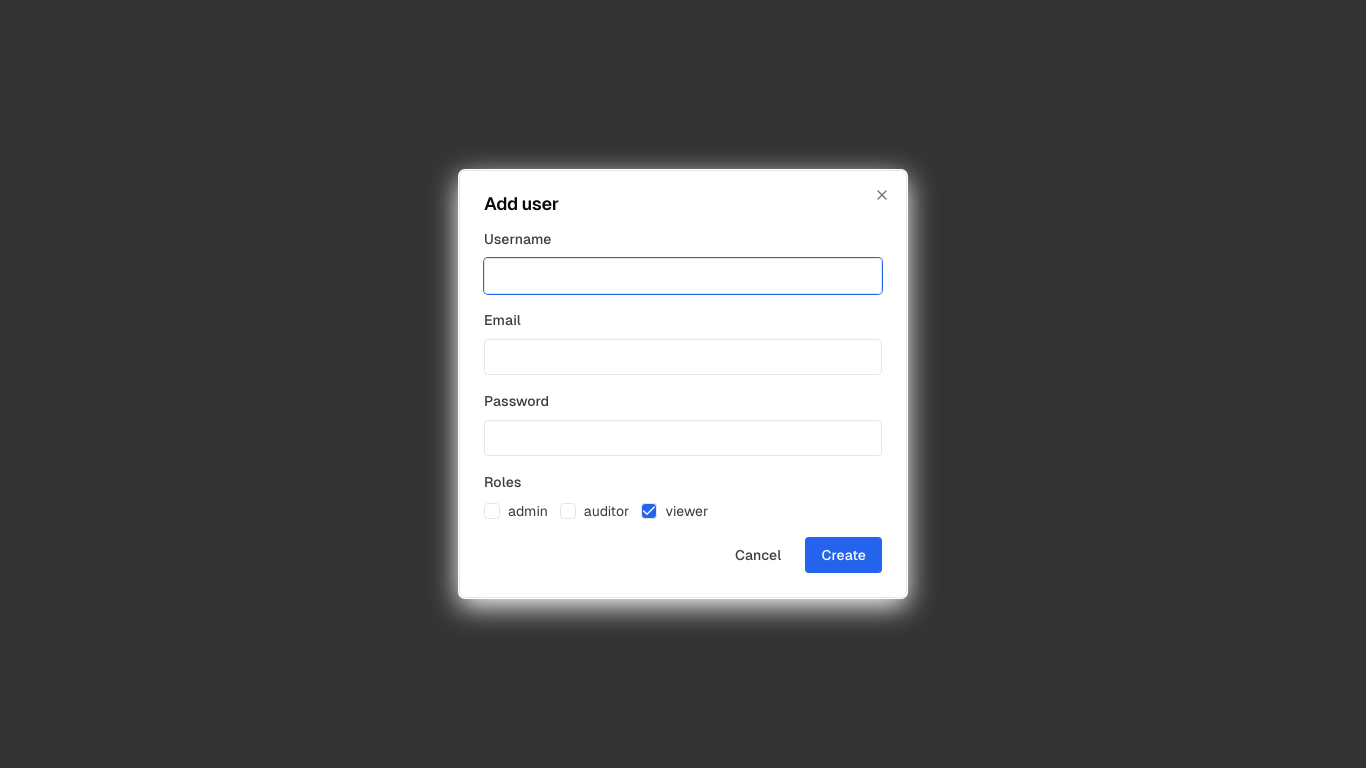
Test case: UsersDialog — add validation › requires at least one role
In the field labelled "Username": (683, 276) left=484, top=258, right=882, bottom=294, type "bob"
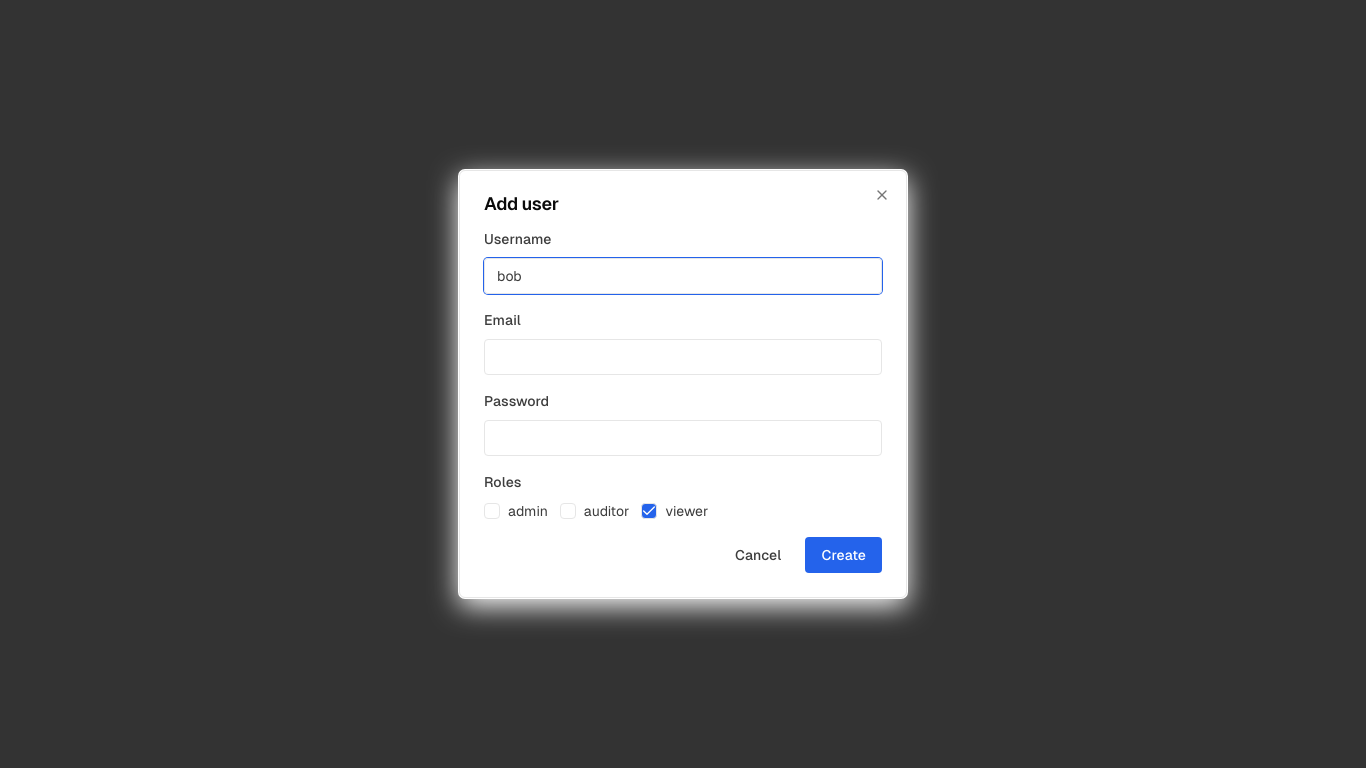
In the password field labelled "Password": (683, 438) left=484, top=420, right=882, bottom=456, type "pw"
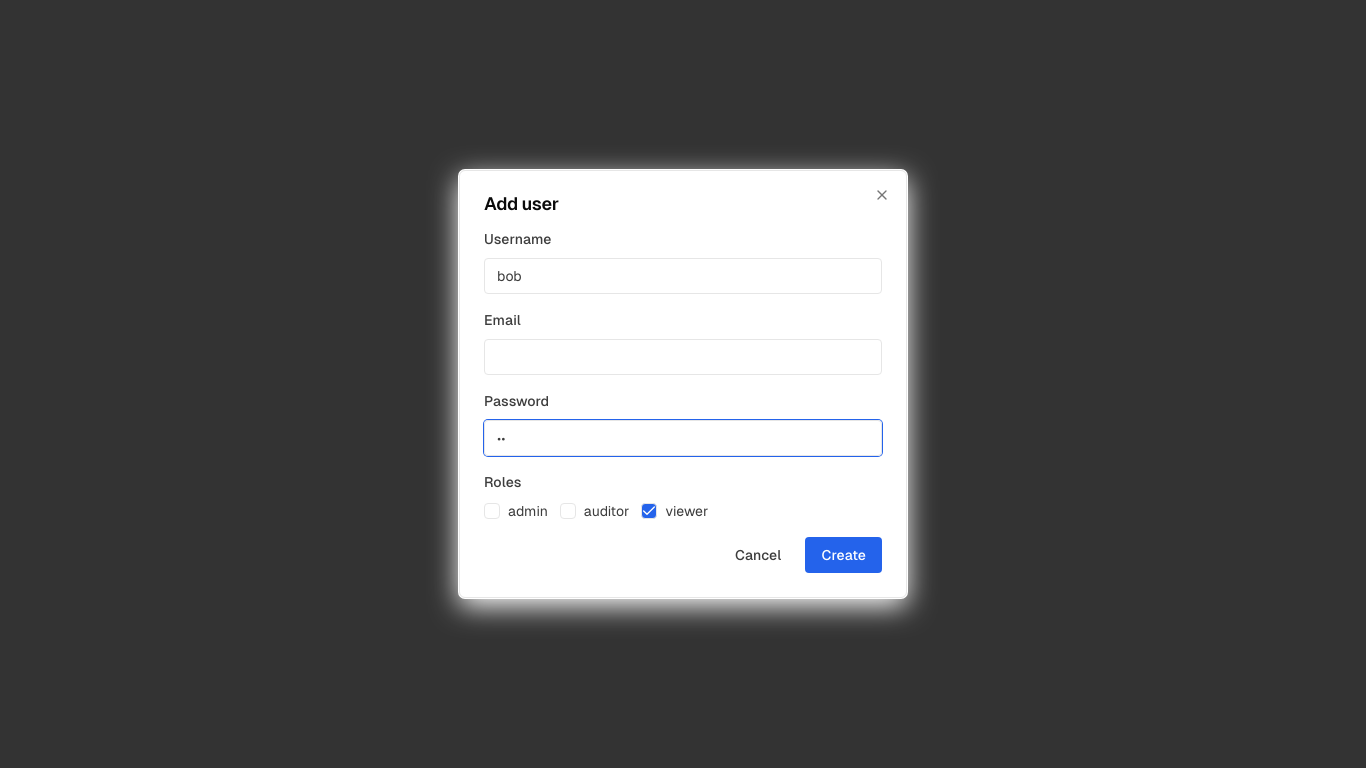
# Default role "viewer" is pre-checked — clear it to leave roles empty.
Click the text "viewer": (675, 511) left=641, top=501, right=708, bottom=521
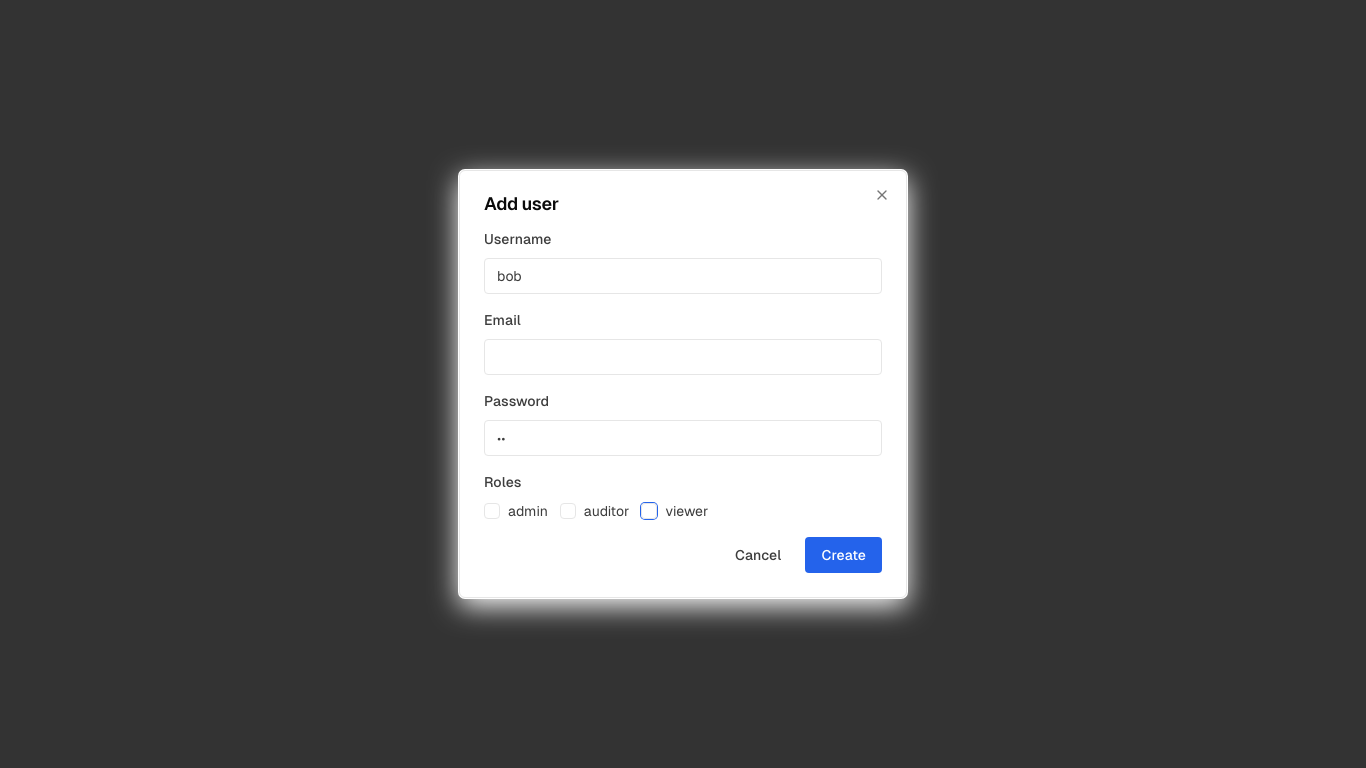
Click the button "Create": (844, 555) left=805, top=537, right=882, bottom=573
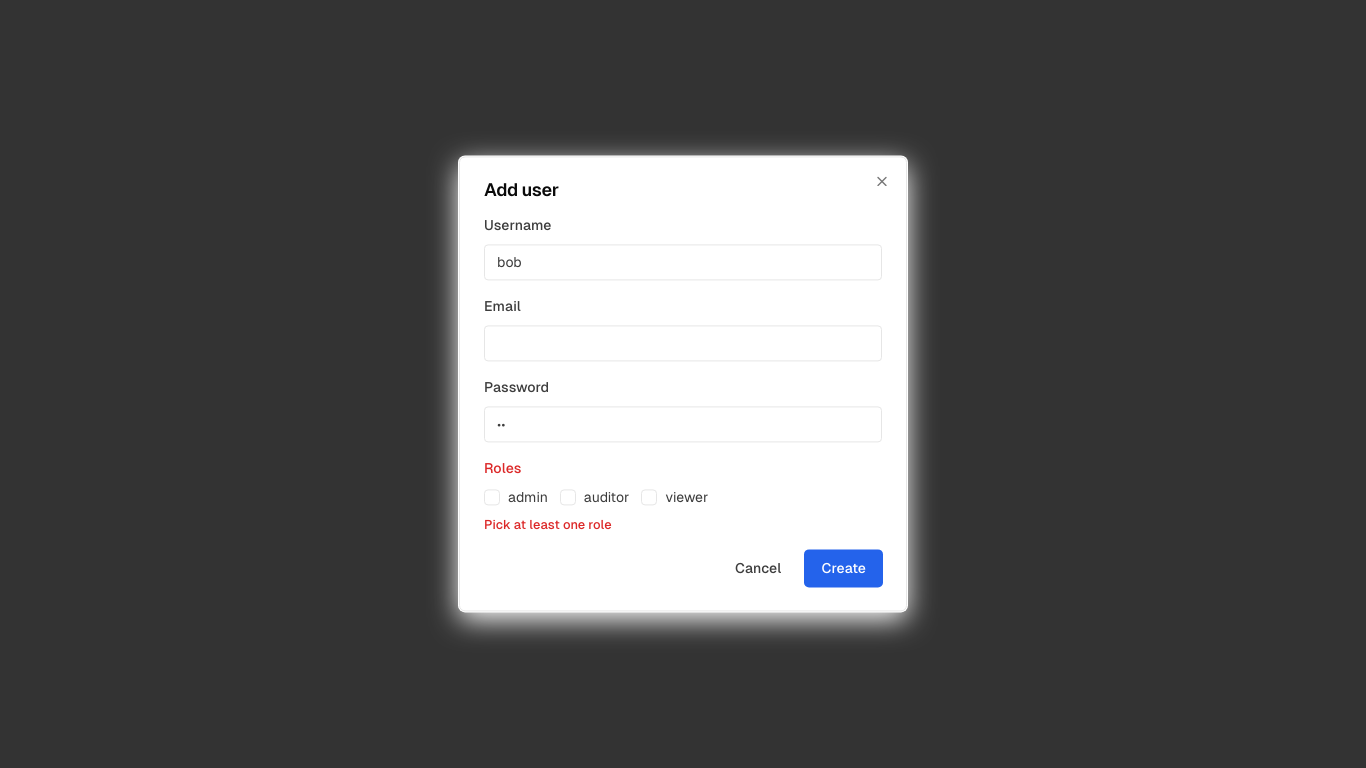
Expected: the text "Pick at least one role" is shown, left=484, top=517, right=612, bottom=532
